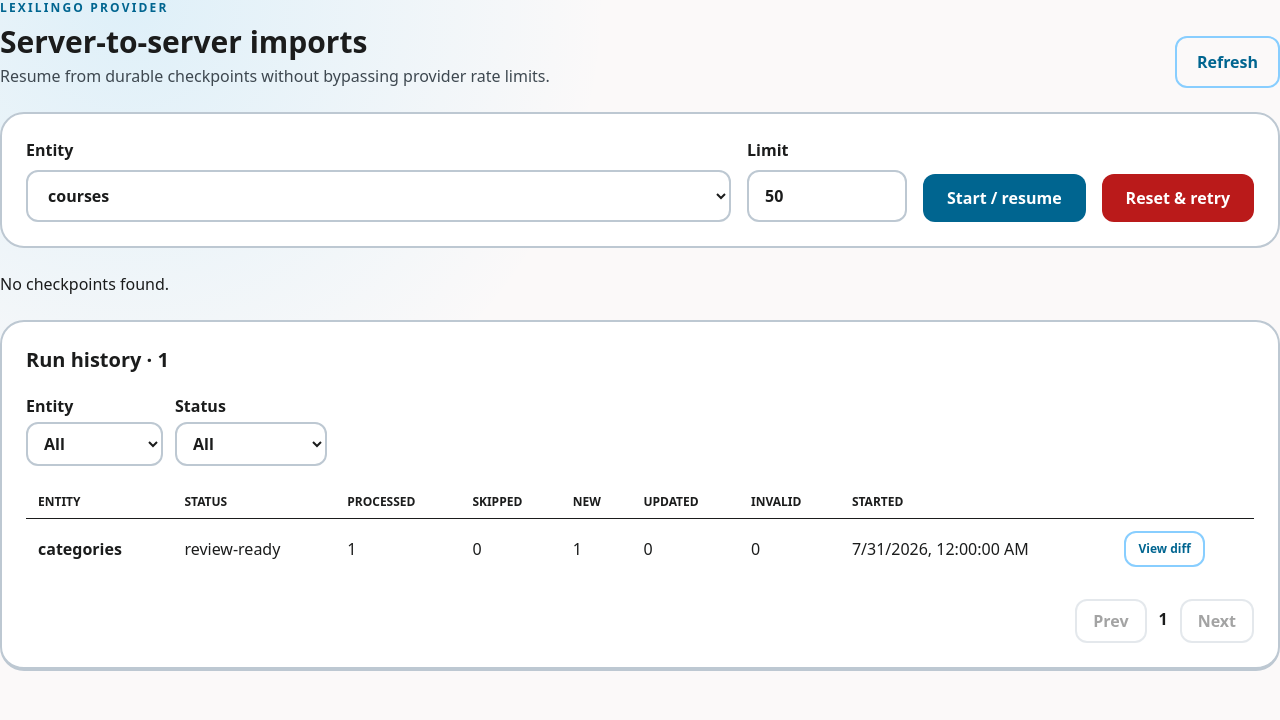
Test case: Import history panel › lets a super admin apply selected staged categories
This screenshot has width=1280, height=720.
What coordinates should you click on to do the following:
click the button "View diff"
I would click on:
 (1165, 549)
Its box is [1124,531,1205,567].
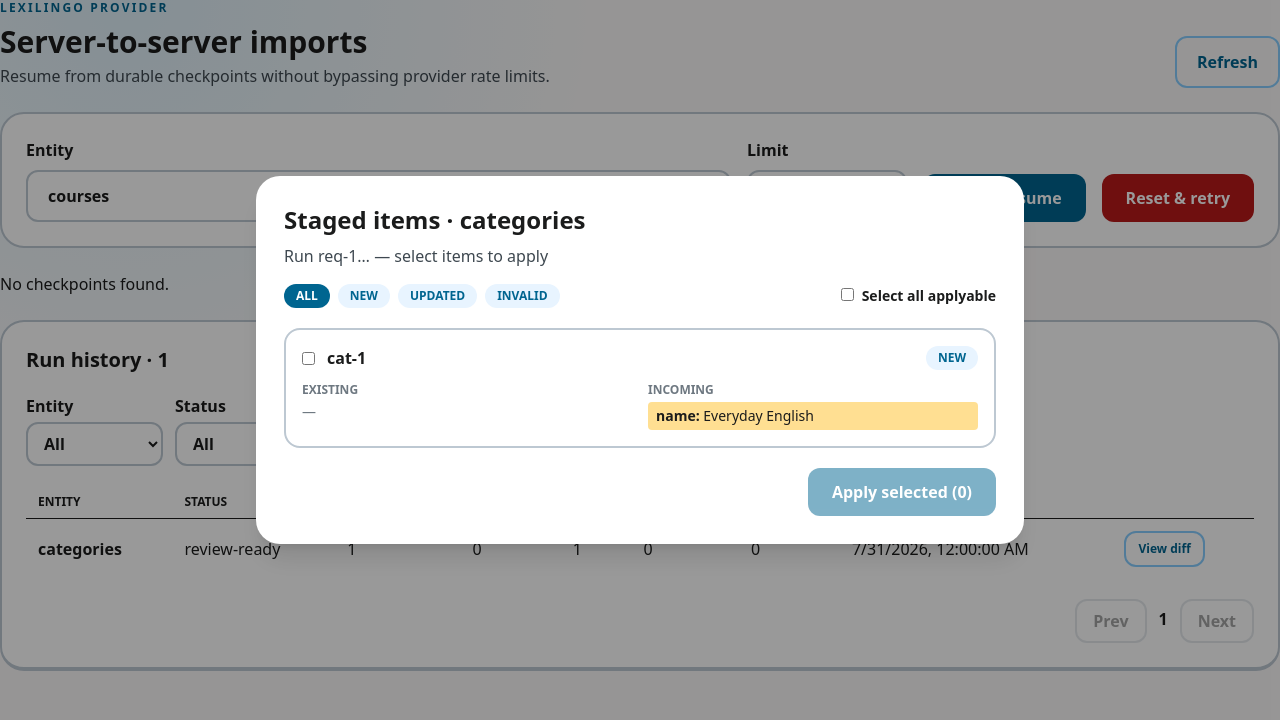
Now the text "Everyday English" is shown, box [703,406,814,425]
What coordinates should you click on to do the following:
click the checkbox named "Select cat-1"
I would click on:
 (308, 358)
Its box is [302,352,315,364].
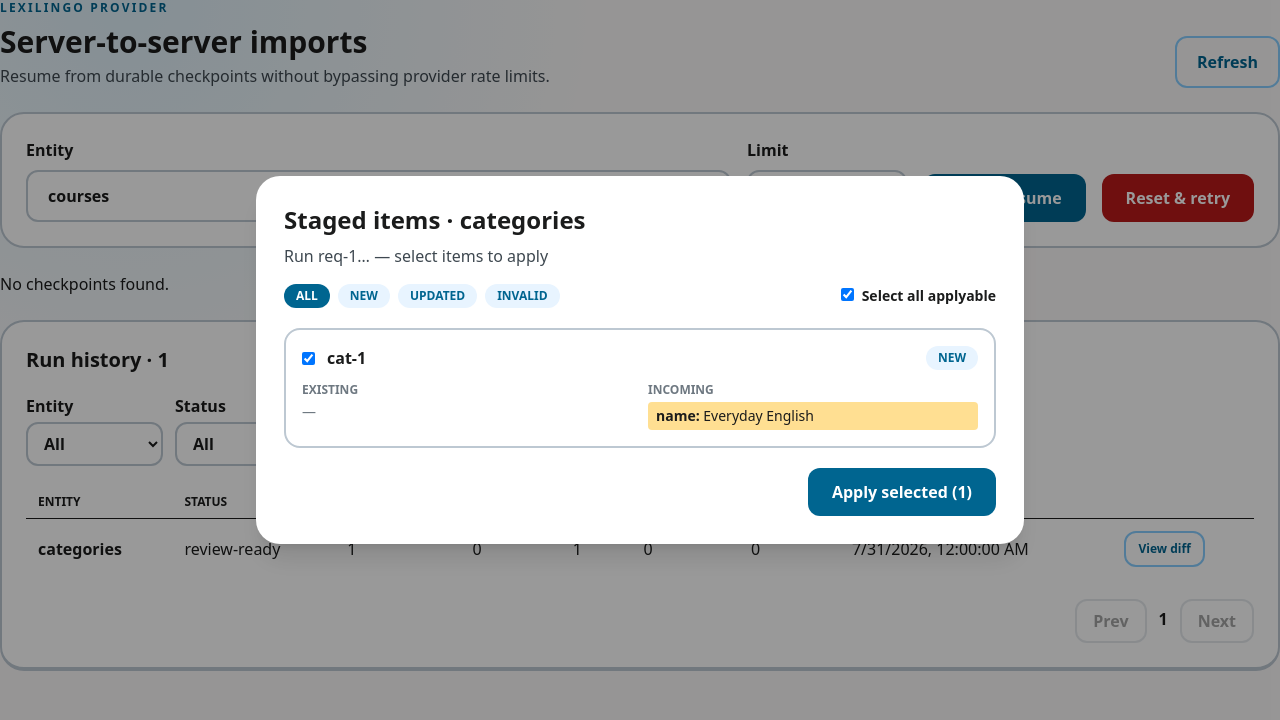
What coordinates should you click on to do the following:
click the button "Apply selected (1)"
I would click on:
 (902, 492)
Its box is [808,468,996,516].
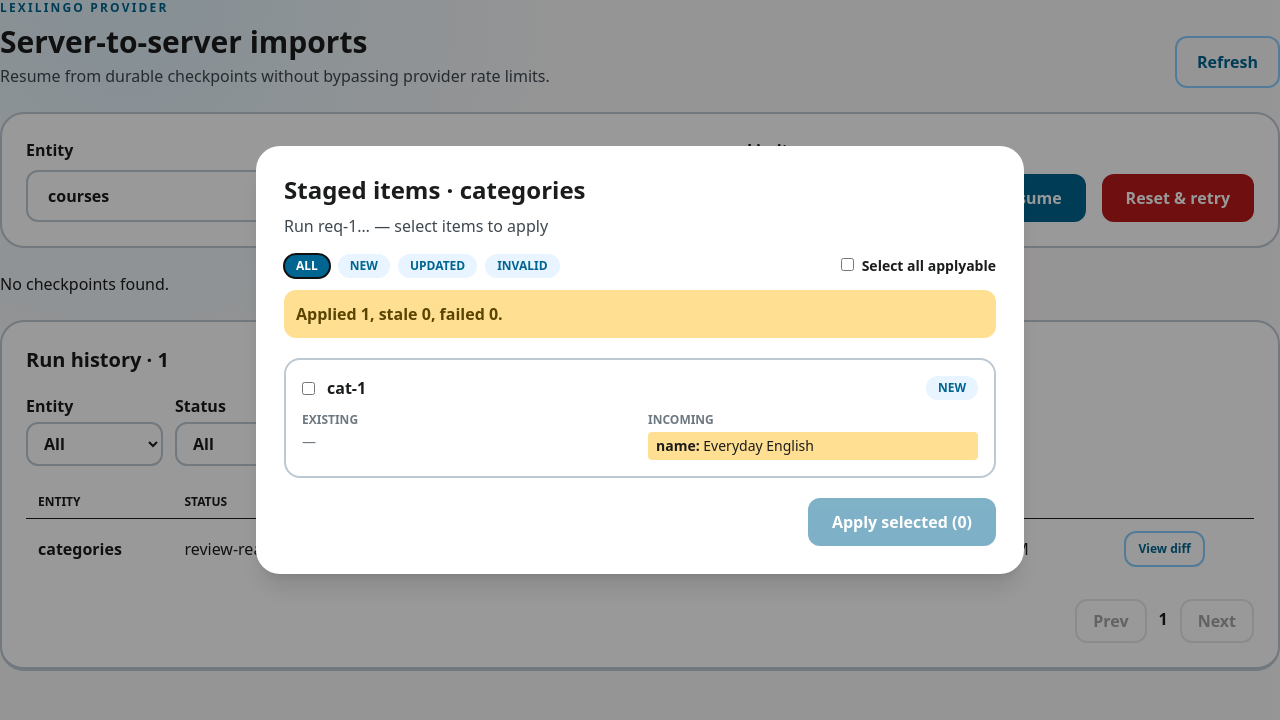
Now the text "Applied 1, stale 0, failed 0." is shown, box [284,290,996,338]
